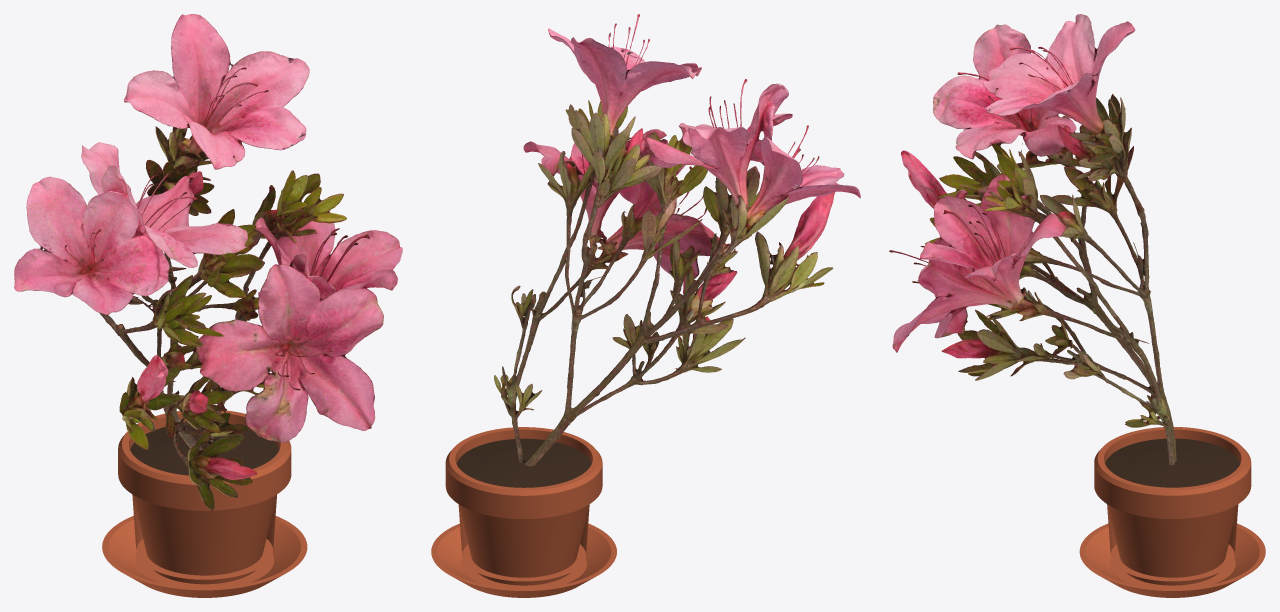
The model's file is flower-in-pot-1.glb.
3 views of the same model, side by side, from view 1: azimuth 30°, elevation 25°; view 2: azimuth 150°, elevation 25°; view 3: azimuth 270°, elevation 25° (orthographic). The views are drawn at different scales.
Parts seen in each view (by area): view 1: QS1252-W08-1all-1_5, Flowerpot; view 2: QS1252-W08-1all-1_5, Flowerpot; view 3: QS1252-W08-1all-1_5, Flowerpot.
Part boxes in pixels (left/top/right/bottom): QS1252-W08-1all-1_5: left=14, top=14, right=402, bottom=510; Flowerpot: left=102, top=410, right=307, bottom=597; QS1252-W08-1all-1_5: left=494, top=14, right=860, bottom=466; Flowerpot: left=431, top=427, right=616, bottom=597; QS1252-W08-1all-1_5: left=889, top=14, right=1176, bottom=465; Flowerpot: left=1079, top=427, right=1265, bottom=597.
Size of the model in its own units: 0.2085 by 0.3056 by 0.1981.
5 materials, 3 textured.
